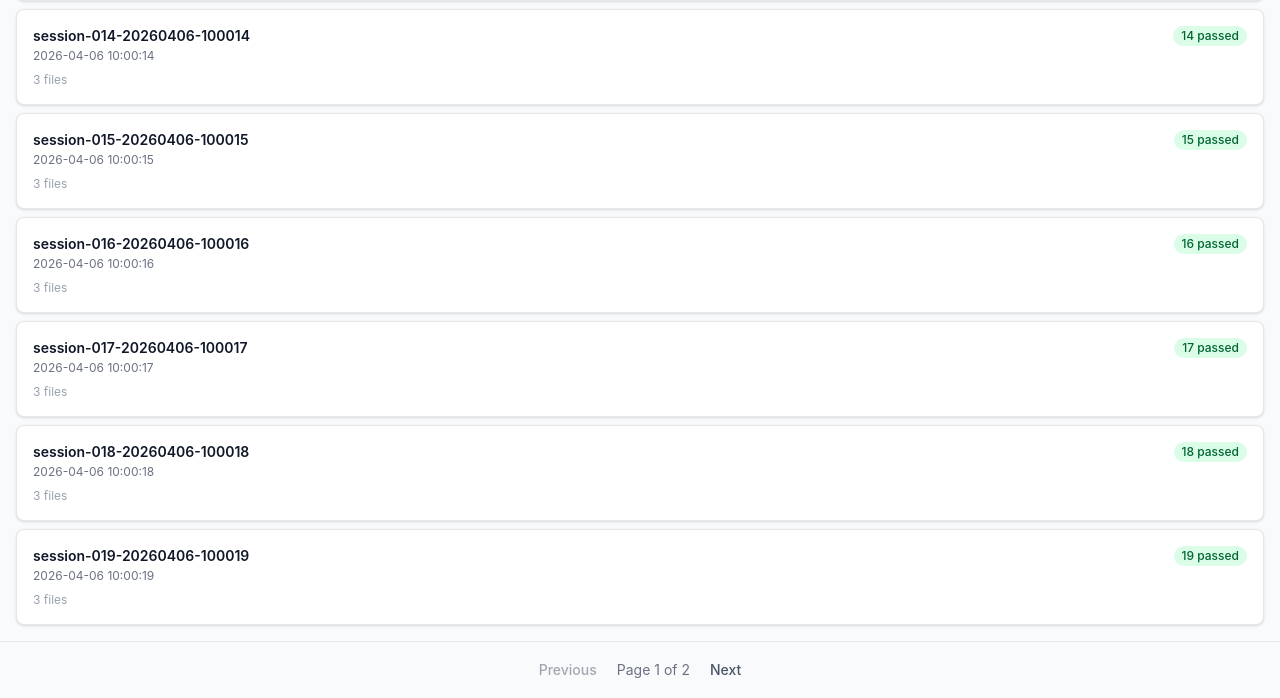
SessionHistoryBrowser › pagination › navigates to next page
(page scrolled)
Expected: the text "Page 1 of 2" is shown, [617,660,690,680]
Click the button with aria-label "Next page" at (726, 670), box [698,654,753,686]
(page scrolled)
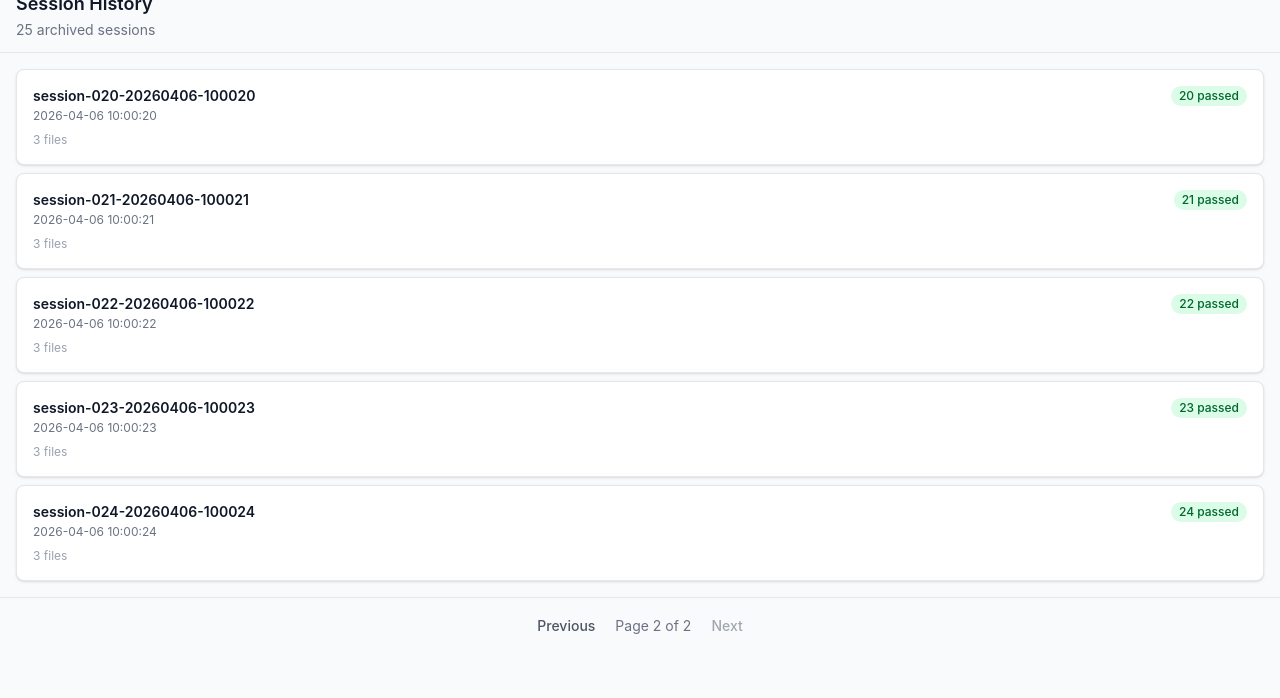
Expected: the text "Page 2 of 2" is shown, [615,616,691,636]
Expected: the button with aria-label "Next page" is disabled, [699,610,755,642]
